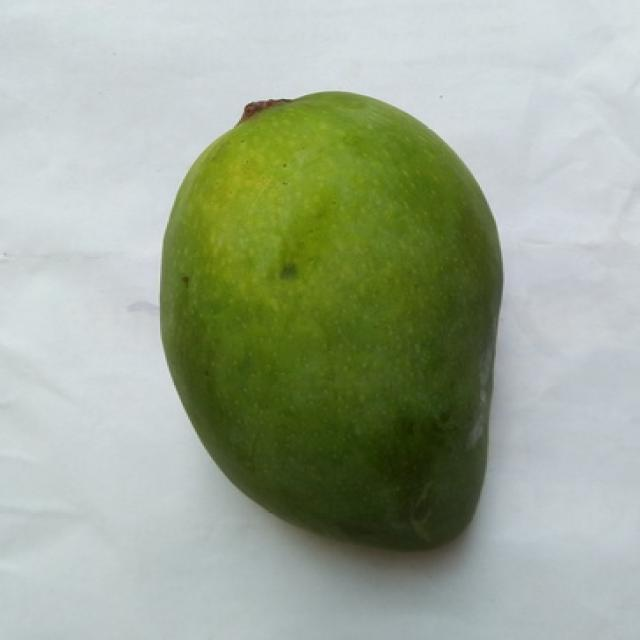Mango: (160, 92, 501, 551)
